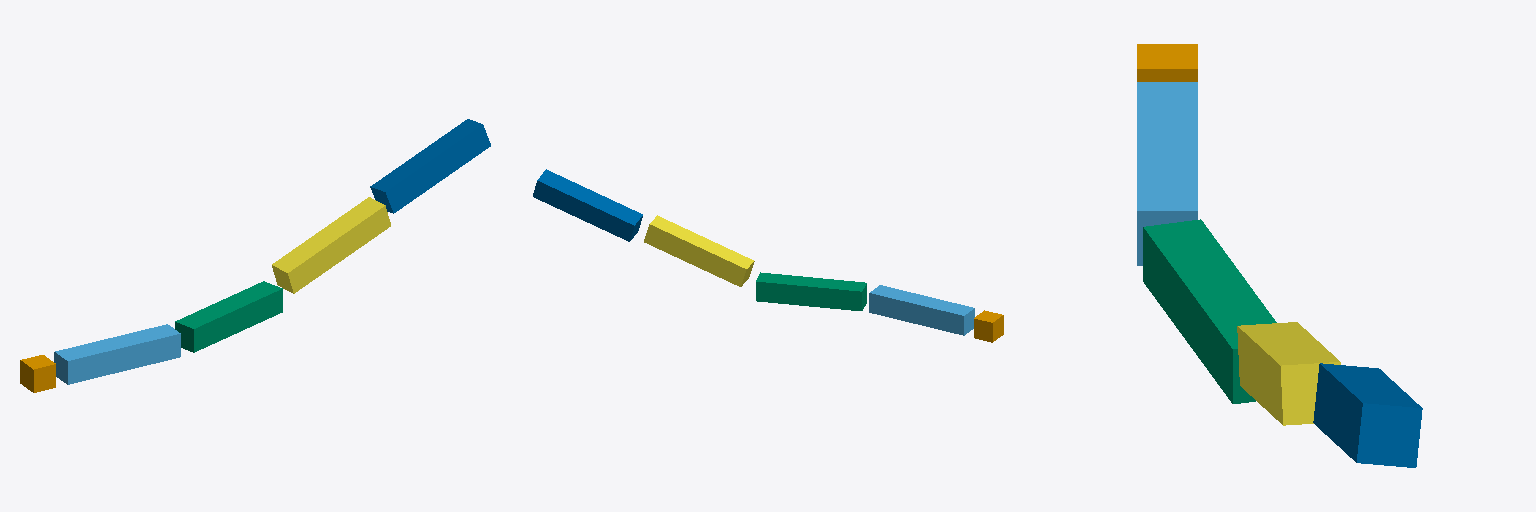
The robot description file, URDF, robot "revolute_joints":
<?xml version="1.0"?>
<robot name="revolute_joints">
  <link name="BaseLink">
    <visual>
      <origin rpy="0 0 0" xyz="0.0 0 0"/>
      <geometry>
        <box size="0.2 0.2 0.2"/>
      </geometry>
    </visual>
  </link>
  <link name="Arm_1">
    <visual>
      <origin rpy="0 0 0" xyz="0.55 0 0"/>
      <geometry>
        <box size="1.0 0.2 0.2"/>
      </geometry>
    </visual>
  </link>
  <link name="Arm_2">
    <visual>
      <origin rpy="0 0 0" xyz="0.55 0 0"/>
      <geometry>
        <box size="1.0 0.2 0.2"/>
      </geometry>
    </visual>
  </link>
  <link name="Arm_3">
    <visual>
      <origin rpy="0 0 0" xyz="0.55 0 0"/>
      <geometry>
        <box size="1.0 0.2 0.2"/>
      </geometry>
    </visual>
  </link>
  <link name="Arm_4">
    <visual>
      <origin rpy="0 0 0" xyz="0.55 0 0"/>
      <geometry>
        <box size="1.0 0.2 0.2"/>
      </geometry>
    </visual>
  </link>

  <joint name="joint_root" type="revolute">
    <origin rpy="0 0 0" xyz="0.15 0 0.0"/>
    <parent link="BaseLink"/>
    <child link="Arm_1"/>
    <axis xyz="0 1 0"/>
    <!-- If limit is omitted -->
  </joint>
  <joint name="joint_arm_1" type="revolute">
    <origin rpy="0 0 0.3" xyz="1.1 0 0.0"/>
    <parent link="Arm_1"/>
    <child link="Arm_2"/>
    <axis xyz="0 1 0"/>
    <!-- If lower is omitted -->
    <limit upper="0.3"/>
  </joint>
  <joint name="joint_arm_2" type="revolute">
    <origin rpy="0 -0.3 -0.15" xyz="1.1 0 0.1"/>
    <parent link="Arm_2"/>
    <child link="Arm_3"/>
    <axis xyz="0 1 0"/>
    <!-- If upper is omitted -->
    <limit lower="-0.3"/>
  </joint>
  <joint name="joint_arm_3" type="revolute">
    <origin rpy="-0.15 0 0" xyz="1.1 0.1 0.0"/>
    <parent link="Arm_3"/>
    <child link="Arm_4"/>
    <axis xyz="0 1 0"/>
    <limit lower="-0.3" upper="0.5"/>
  </joint>

</robot>

--- Render facts (derived) ---
The picture shows the robot from 3 angles, left to right: view 1: azimuth 30°, elevation 25°; view 2: azimuth 150°, elevation 25°; view 3: azimuth 270°, elevation 25°; orthographic projection.
Robot: revolute_joints — 5 links, 4 joints (4 revolute); root link BaseLink; default pose: every joint at zero.
Visible links, largest first — view 1: Arm_3, Arm_4, Arm_1, Arm_2, BaseLink; view 2: Arm_4, Arm_3, Arm_2, Arm_1, BaseLink; view 3: Arm_2, Arm_1, Arm_4, Arm_3, BaseLink.
Link boxes in pixels (x1,y1,x2,y2): Arm_3: (272,197,390,293); Arm_4: (370,119,490,213); Arm_1: (54,324,180,384); Arm_2: (175,281,282,352); BaseLink: (20,355,55,392); Arm_4: (533,169,642,241); Arm_3: (644,215,754,286); Arm_2: (756,272,866,310); Arm_1: (869,285,974,335); BaseLink: (974,310,1003,342); Arm_2: (1143,219,1276,403); Arm_1: (1137,82,1197,265); Arm_4: (1313,363,1422,467); Arm_3: (1237,322,1340,425); BaseLink: (1137,44,1197,81).
Size in the robot's own frame: 4.46 by 0.9397 by 0.9441 metres.
Geometry: primitives only (box / cylinder / sphere), no mesh files.